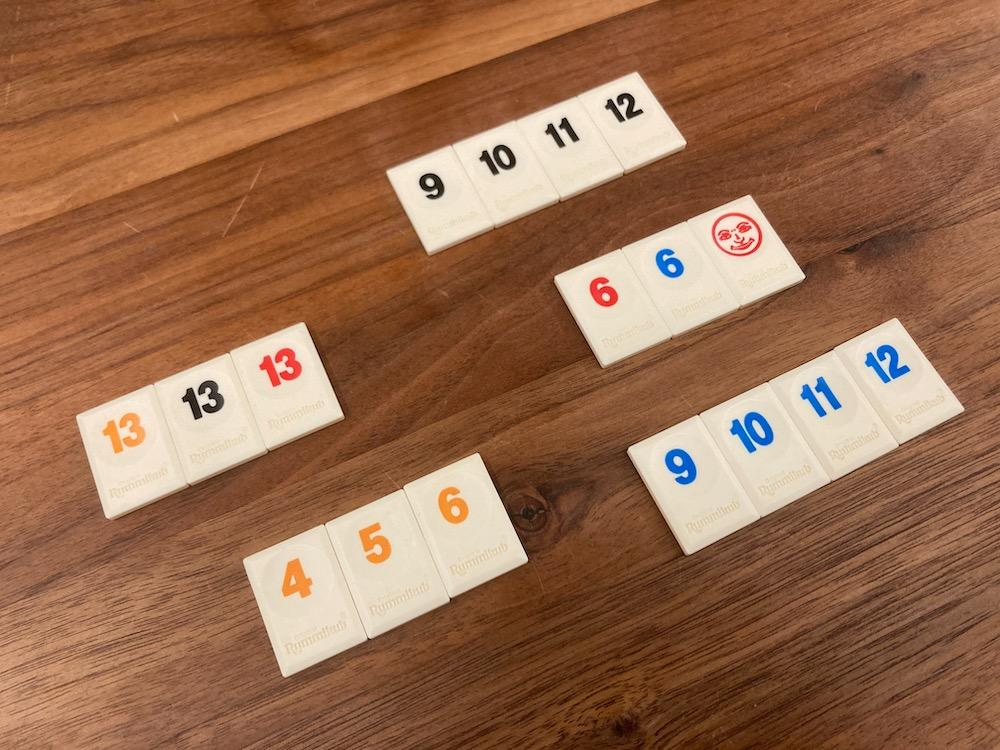black_10: (453, 121, 559, 227)
black_11: (518, 98, 623, 199)
black_12: (578, 72, 686, 172)
black_13: (154, 354, 266, 484)
black_9: (388, 146, 494, 254)
blue_10: (703, 383, 830, 516)
blue_11: (770, 352, 898, 479)
blue_12: (834, 318, 963, 443)
blue_6: (623, 223, 738, 336)
blue_9: (629, 416, 760, 555)
joker: (688, 195, 805, 305)
orange_13: (76, 385, 188, 518)
orange_4: (244, 525, 367, 676)
orange_5: (328, 490, 449, 637)
orange_6: (404, 453, 527, 598)
red_13: (230, 322, 344, 449)
red_6: (555, 250, 672, 367)
